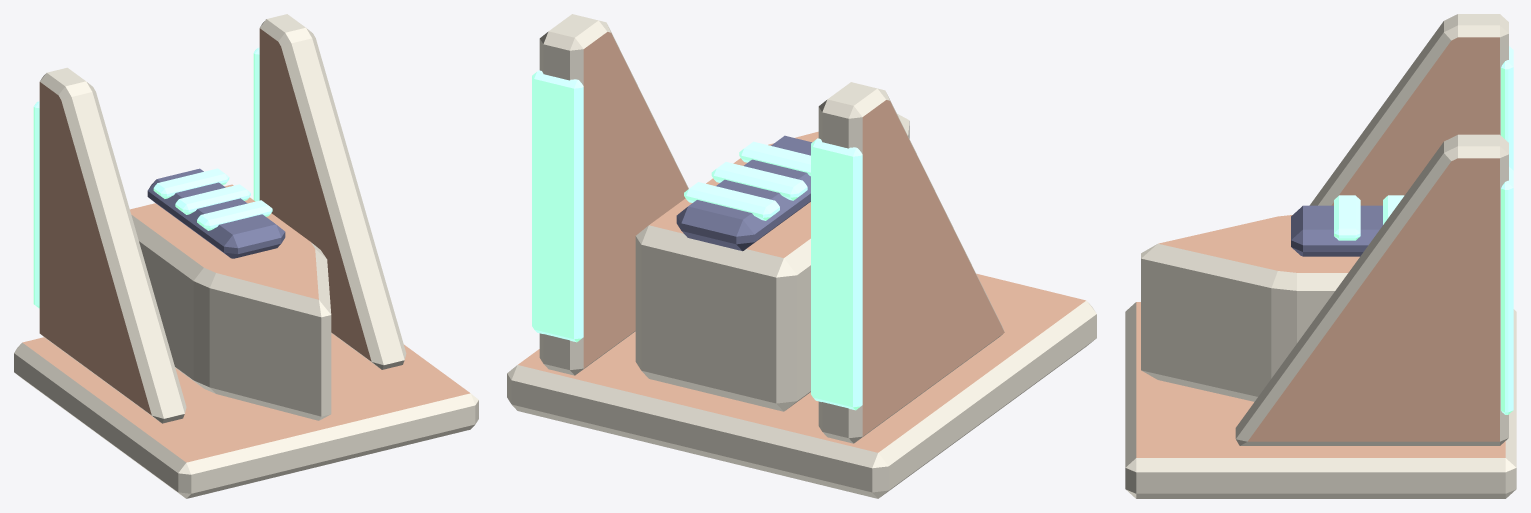
Rendered from R4X_MobilityBooster_LOD1.fbx.
3 views of the same model, side by side, from view 1: azimuth 30°, elevation 25°; view 2: azimuth 150°, elevation 25°; view 3: azimuth 270°, elevation 25° (orthographic). The views are drawn at different scales.
Parts seen in each view (by area): view 1: R4X_MobilityBooster_LOD1; view 2: R4X_MobilityBooster_LOD1; view 3: R4X_MobilityBooster_LOD1.
Boxes of the visible parts, bbox=[...] form: R4X_MobilityBooster_LOD1: bbox=[14, 14, 478, 498]; R4X_MobilityBooster_LOD1: bbox=[507, 14, 1096, 498]; R4X_MobilityBooster_LOD1: bbox=[1125, 14, 1516, 498].
Size of the model in its own units: 0.52 by 0.5 by 0.52.
